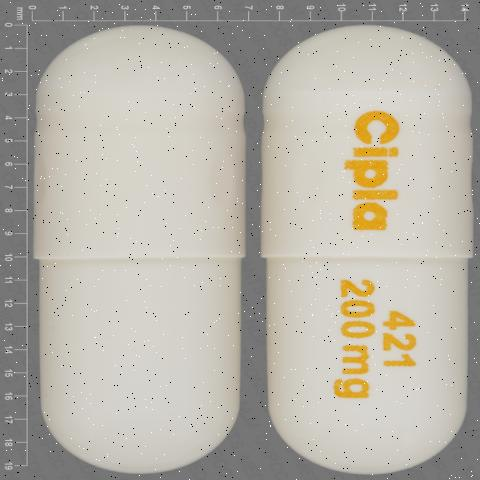hands: (19, 18, 252, 479), (263, 13, 469, 477)
